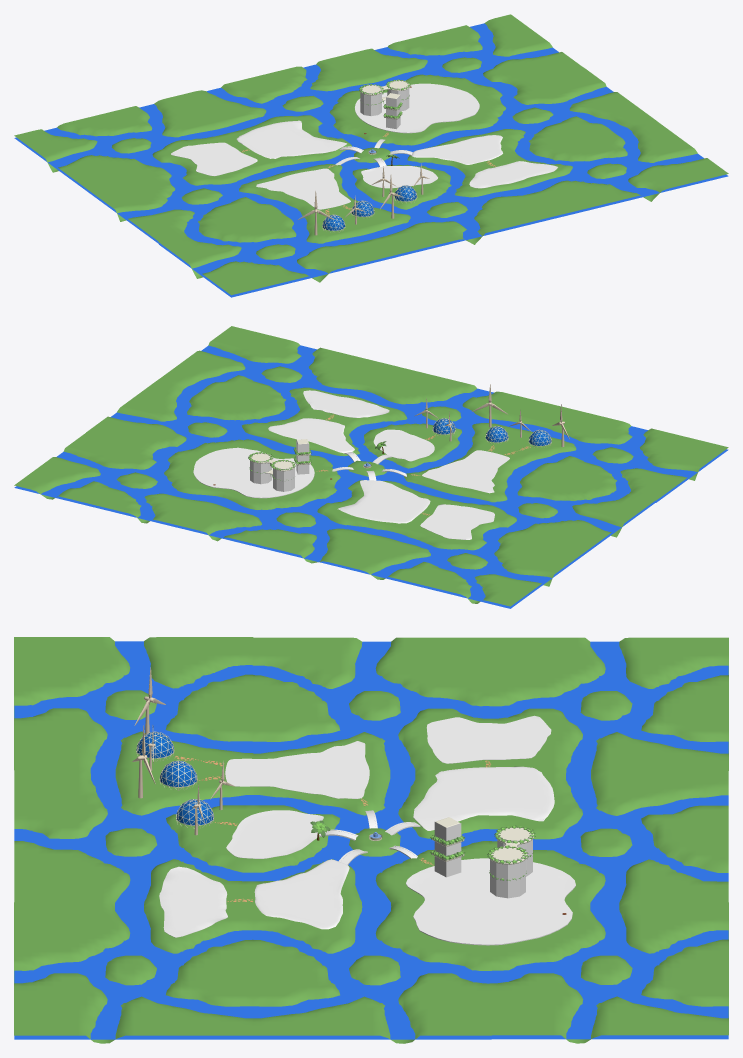
The model's file is Map_Draco.glb.
The picture shows the model from 3 angles, top to bottom: view 1: azimuth 30°, elevation 25°; view 2: azimuth 150°, elevation 25°; view 3: azimuth 270°, elevation 25°; orthographic projection. The views are drawn at different scales.
Visible parts, largest first — view 1: Relief (×10), Plan (×9), Remailleur (×2), Remailleur.4, Remailleur.3, Remailleur.5, Remailleur.1, Remailleur.2, build_feuille_master1, col_build_feuille-1; view 2: Relief (×10), Plan (×10), Remailleur (×2), Remailleur.4, Remailleur.3, Remailleur.5, Remailleur.1, Remailleur.2, build_feuille_master1, col_build_feuille-1, col_build_feuille-2; view 3: Relief (×10), Plan (×9), Remailleur (×2), Remailleur.4, Remailleur.3, Remailleur.5, Remailleur.1, Remailleur.2, build_feuille_master1, col_build_feuille-2, col_build_tour-1, Ponts (+3 smaller).
Part boxes in pixels (x1=…): Relief (×10): x1=14, y1=14, x2=728, y2=295; Plan (×9): x1=14, y1=23, x2=728, y2=297; Remailleur (×2): x1=355, y1=83, x2=557, y2=188; Remailleur.4: x1=236, y1=120, x2=346, y2=158; Remailleur.3: x1=256, y1=168, x2=350, y2=209; Remailleur.5: x1=171, y1=142, x2=257, y2=176; Remailleur.1: x1=411, y1=135, x2=502, y2=164; Remailleur.2: x1=361, y1=166, x2=437, y2=188; build_feuille_master1: x1=359, y1=79, x2=410, y2=105; col_build_feuille-1: x1=360, y1=90, x2=381, y2=116; Relief (×10): x1=14, y1=326, x2=728, y2=606; Plan (×10): x1=14, y1=345, x2=728, y2=608; Remailleur (×2): x1=193, y1=390, x2=389, y2=498; Remailleur.4: x1=337, y1=480, x2=430, y2=523; Remailleur.3: x1=422, y1=450, x2=509, y2=493; Remailleur.5: x1=420, y1=504, x2=494, y2=539; Remailleur.1: x1=268, y1=418, x2=354, y2=453; Remailleur.2: x1=373, y1=429, x2=434, y2=461; build_feuille_master1: x1=248, y1=452, x2=295, y2=480; col_build_feuille-1: x1=273, y1=465, x2=294, y2=491; col_build_feuille-2: x1=250, y1=458, x2=271, y2=484; Relief (×10): x1=14, y1=637, x2=728, y2=1043; Plan (×9): x1=14, y1=641, x2=728, y2=1039; Remailleur (×2): x1=159, y1=858, x2=575, y2=945; Remailleur.4: x1=413, y1=766, x2=554, y2=830; Remailleur.3: x1=225, y1=741, x2=369, y2=798; Remailleur.5: x1=426, y1=715, x2=551, y2=763; Remailleur.1: x1=254, y1=859, x2=349, y2=929; Remailleur.2: x1=226, y1=810, x2=323, y2=858; build_feuille_master1: x1=487, y1=825, x2=535, y2=880; col_build_feuille-2: x1=490, y1=855, x2=525, y2=898; col_build_tour-1: x1=434, y1=822, x2=461, y2=877; Ponts: x1=320, y1=810, x2=420, y2=864.
Size of the model in its own units: 165 by 16.8 by 125.
207 materials, 2 textured.
